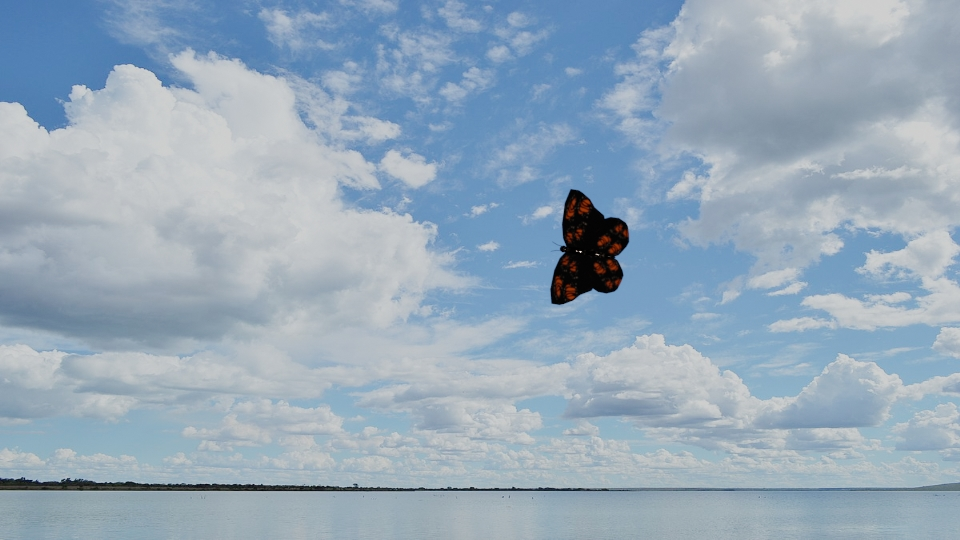insect: (549, 188, 629, 305)
